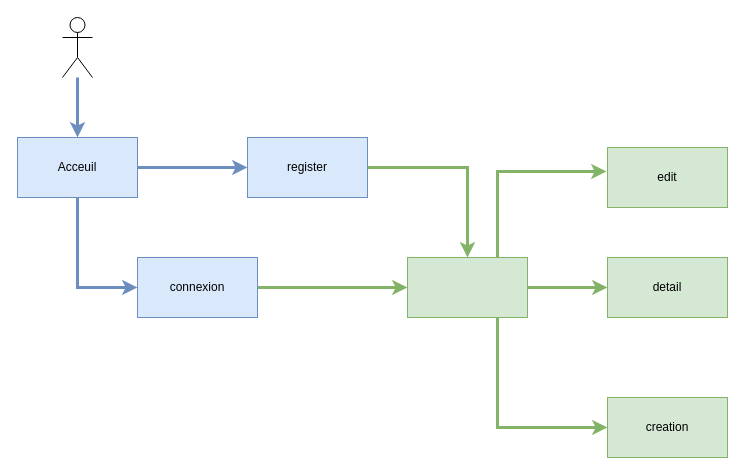
The diagram is 745 pixels wide and 475 high, and some of its shapes have lost their labels. The shapes that lost their labels are listed below. From the top down, each one's centre as x and y in pixels, then its label:
At (77,47): "User".
At (467,287): "dashboard".
